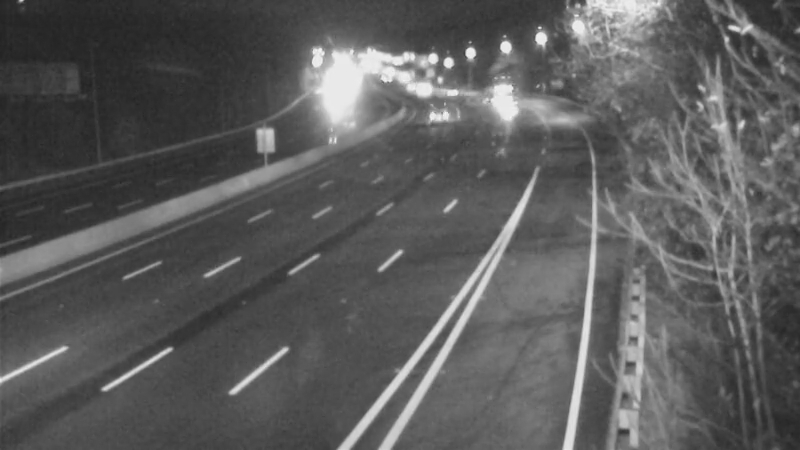vehicle: (425, 66, 475, 116), (474, 63, 524, 113), (482, 81, 532, 131), (412, 86, 462, 136)
